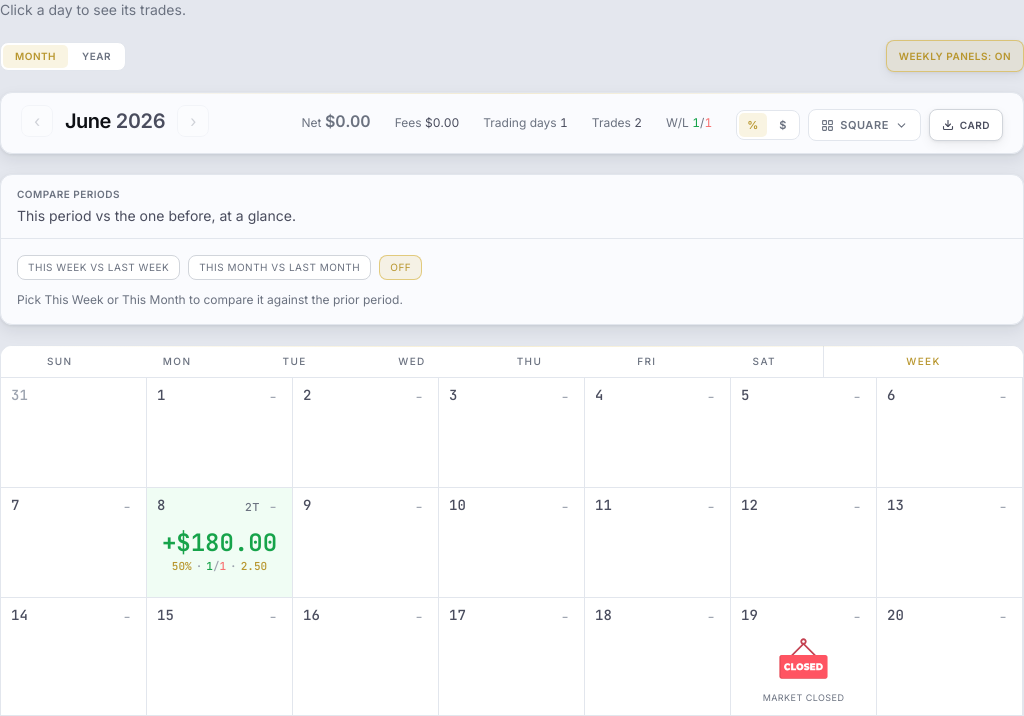
Test: AG6 the year view routes › AG6 CONTROL: the Month | Year toggle still switches to the month grid
Click the button "Year" at (97, 56), box [70, 44, 123, 68]
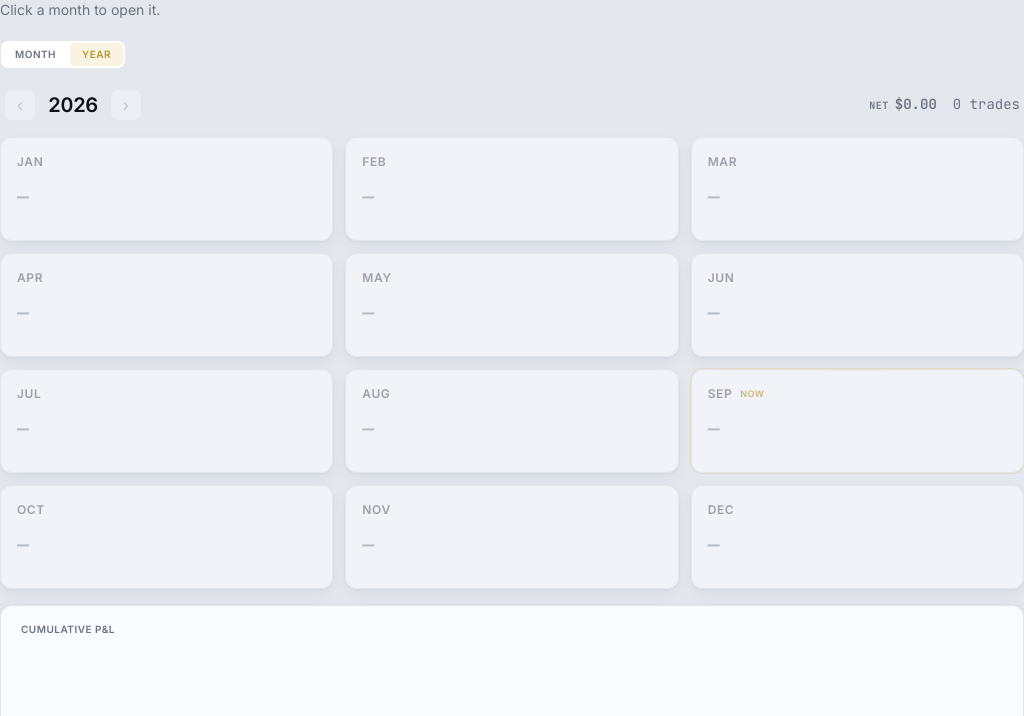
Expected: the text "Click a month to open it." is shown, [0, 1, 160, 18]
Click the button "Month" at (36, 54), box [3, 43, 68, 66]
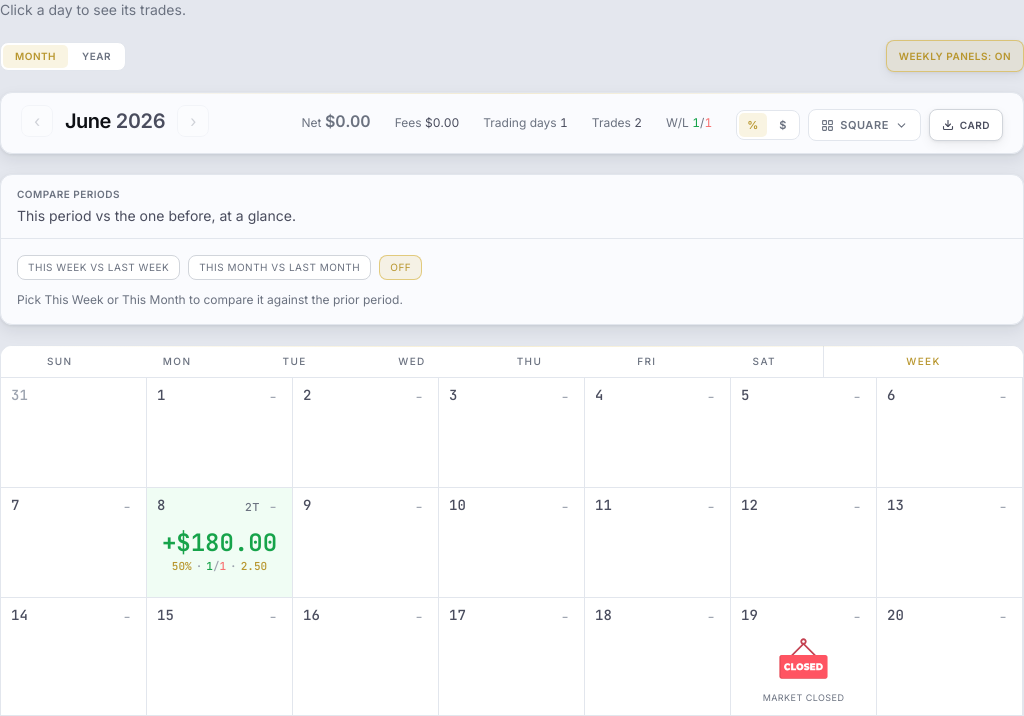
Expected: the text "Click a day to see its trades." is shown, [0, 1, 186, 18]
